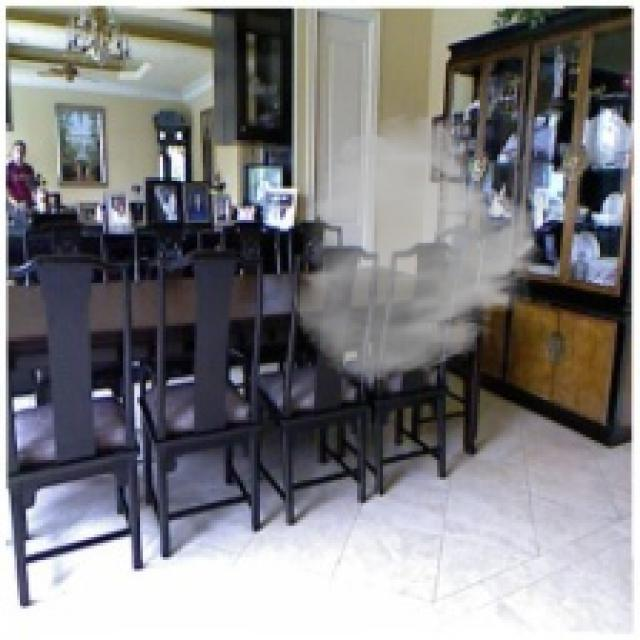Smoke: (292, 111, 554, 386)
